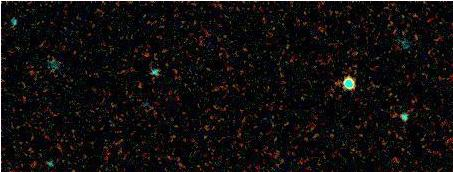star: (123, 71, 153, 101)
